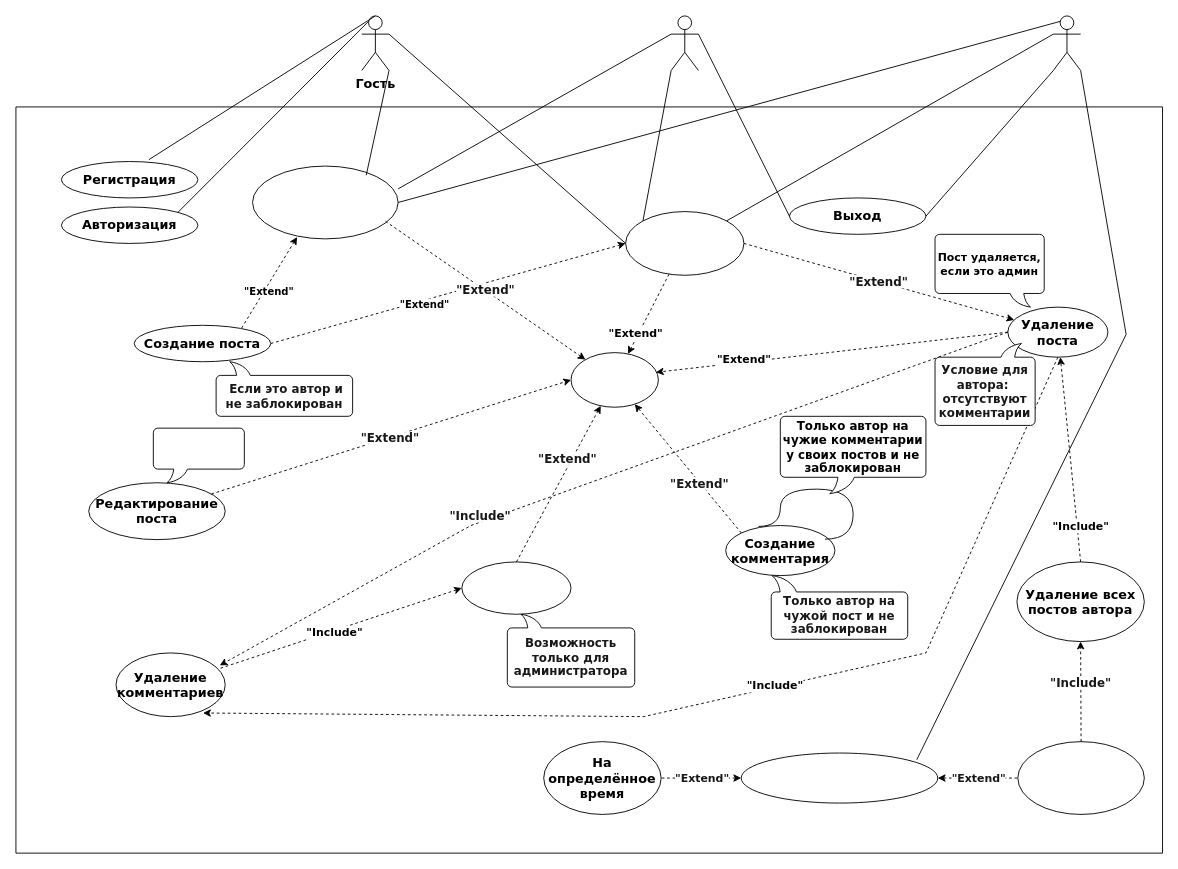
This 1178x869 diagram has some shape labels left out. The shapes that lost their labels are listed below. From the top down, each one's centre as x and y in pixels, then its label:
At point (684, 43): "Автор".
At point (1066, 43): "Администратор".
At point (325, 202): "Просмотр ленты из 10 постов".
At point (684, 243): "Просмотр постов".
At point (614, 379): "Просмотр поста".
At point (198, 455): "Только автор".
At point (516, 587): "Удаление комментария".
At point (839, 777): "Просмотр списка пользователей".
At point (1080, 777): "Период блокировки - навсегда".
